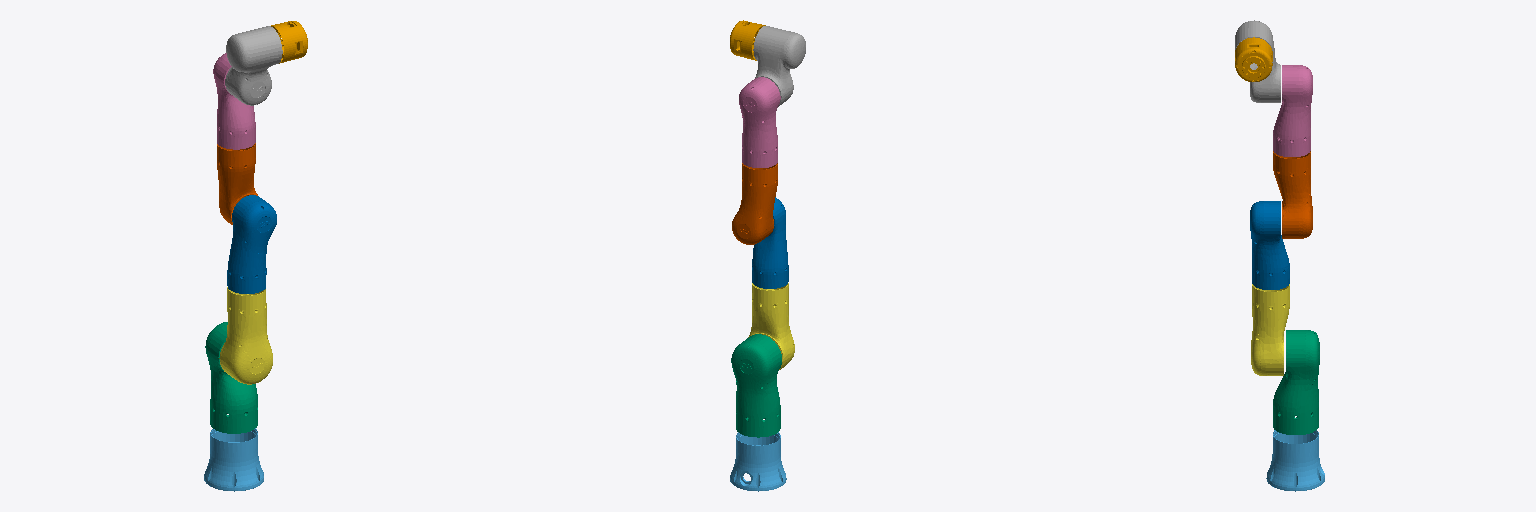
The robot description file, URDF, robot "flexivArm_pvt4":
<?xml version="1.0" ?>
<!-- ======================================================================= -->
<!-- |                           Flexiv 7DOFs Arm                          | -->
<!-- ======================================================================= -->
<robot name="flexivArm_pvt4">
  <!-- ============================ Link Configuration ===================== -->
  <link name="world"/>
  <!-- ============ base link =========== -->
  <link name="base">
    <inertial>
      <mass value="3.591137"/> 
      <origin rpy="0 0 0" xyz="-0.001234 0.001568 0.081104"/>
      <inertia ixx="0.018771" iyy="0.018894" izz="0.009005" ixy="0.000028" ixz="0.000242" iyz="-0.000318"/>
    </inertial>
    <visual>
      <origin rpy="0 0 0" xyz="0 0 0"/>
      <geometry>
        <mesh filename="graphics/link0_body.stl"/>
      </geometry>      
    </visual>  
    <collision>
       <origin xyz="0 0 0" rpy="0 0 0"/>
       <geometry>
         <mesh filename="graphics/link0_body.stl"/>
       </geometry>
    </collision>   
  </link>
  <!-- ============ link 1 ============= -->
  <link name="link1">
    <inertial>
      <mass value="3.560594"/> 
      <origin rpy="0 0 0" xyz="0.000163 0.005993 0.148985"/>
      <inertia ixx="0.026557" iyy="0.026137" izz="0.007362" ixy="-0.000034" ixz="0.000019"  iyz="0.001705" />
    </inertial>
    <visual>
      <origin rpy="0 0 0" xyz="0 0 0"/>
      <geometry>
        <mesh filename="graphics/link1_assemble.stl"/>
      </geometry>      
    </visual>    
    <collision>
       <origin xyz="0 0 0" rpy="0 0 0"/>
       <geometry>
         <mesh filename="graphics/link1_assemble.stl"/>
       </geometry>
    </collision>  
  </link>
  <!-- ============ link 2 ============= -->
  <link name="link2">
    <inertial>
      <mass value="2.613387"/> 
      <origin rpy="0 0 0" xyz="0.000094 0.036160 0.096506"/>
      <inertia ixx="0.021981" iyy="0.022815" izz="0.003434" ixy="-0.000005" ixz="0.000012"  iyz="-0.000198" />
    </inertial>
    <visual>
      <origin rpy="0 0 0" xyz="0 0 0"/>
      <geometry>
        <mesh filename="graphics/link2_assemble.stl"/>
      </geometry>      
    </visual>  
    <collision>
       <origin xyz="0 0 0" rpy="0 0 0"/>
       <geometry>
         <mesh filename="graphics/link2_assemble.stl"/>
       </geometry>
    </collision>   
  </link>
  <!-- ============ link 3 ============= -->
  <link name="link3">
    <inertial>
      <mass value="2.121307"/> 
      <origin rpy="0 0 0" xyz="-0.011331 -0.004816 0.132184"/>   
      <inertia ixx="0.012408" iyy="0.012231" izz="0.003144" ixy="0.000122" ixz="-0.001276"  iyz="-0.000841" />
    </inertial>
    <visual>
      <origin rpy="0 0 0" xyz="0 0 0"/>
      <geometry>
        <mesh filename="graphics/link3_assemble.stl"/>
      </geometry>      
    </visual>  
    <collision>
       <origin xyz="0 0 0" rpy="0 0 0"/>
       <geometry>
         <mesh filename="graphics/link3_assemble.stl"/>
       </geometry>
    </collision>      
  </link>
  <!-- ============ link 4 ============= -->
  <link name="link4">
    <inertial>
      <mass value="2.121307"/> 
      <origin rpy="0 0 0" xyz="0.013470 -0.028852 0.106413"/>
      <inertia ixx="0.015539" iyy="0.015983" izz="0.002456" ixy="0.000057" ixz="0.001317"  iyz="0.000634" />
    </inertial>
    <visual>
      <origin rpy="0 0 0" xyz="0 0 0"/>
      <geometry>
        <mesh filename="graphics/link4_assemble.stl"/>
      </geometry>      
    </visual>   
    <collision>
       <origin xyz="0 0 0" rpy="0 0 0"/>
       <geometry>
         <mesh filename="graphics/link4_assemble.stl"/>
       </geometry>
    </collision>  
  </link>
  <!-- ============ link 5 ============= -->
  <link name="link5">
    <inertial>
      <mass value="2.099842"/> 
      <origin rpy="0 0 0" xyz="0.000161 0.004881 0.131728"/>
      <inertia ixx="0.012359" iyy="0.011973" izz="0.002944" ixy="-0.000022" ixz="0.000023"  iyz="0.000843" />
    </inertial>
    <visual>
      <origin rpy="0 0 0" xyz="0 0 0"/>
      <geometry>
        <mesh filename="graphics/link5_assemble.stl"/>
      </geometry>      
    </visual>    
    <collision>
       <origin xyz="0 0 0" rpy="0 0 0"/>
       <geometry>
         <mesh filename="graphics/link5_assemble.stl"/>
       </geometry>
    </collision>
  </link>
  <!-- ============ link 6 ============= -->
  <link name="link6">
    <inertial>
      <mass value="1.951133"/> 
      <origin rpy="0 0 0" xyz="-0.009368 0.056122 0.070695"/>
      <inertia ixx="0.007508" iyy="0.007739" izz="0.003209" ixy="-0.000280" ixz="-0.000731"  iyz="0.001606" />
    </inertial>
    <visual>
      <origin rpy="0 0 0" xyz="0 0 0"/>
      <geometry>
        <mesh filename="graphics/link6_assemble.stl"/>
      </geometry>      
    </visual>
    <collision>
       <origin xyz="0 0 0" rpy="0 0 0"/>
       <geometry>
         <mesh filename="graphics/link6_assemble.stl"/>
       </geometry>
    </collision>    
  </link>

  <!-- ============ link 7 ============= -->
  <link name="link7">
    <inertial>
      <mass value="0.787207"/> 
      <origin rpy="0 0 0" xyz="-0.027869 -0.000721 -0.000521"/>
      <inertia ixx="0.000998" iyy="0.001075" izz="0.001024" ixy="0.000006" ixz="0.000003"  iyz="0.000006" />
    </inertial>
    <visual>
      <origin rpy="0 0 0" xyz="0 0 0"/>
      <geometry>
        <mesh filename="graphics/link7_assemble.stl"/>
      </geometry>      
    </visual> 
    <collision>
       <origin xyz="0 0 0" rpy="0 0 0"/>
       <geometry>
         <mesh filename="graphics/link7_assemble.stl"/>
       </geometry>
    </collision>    
  </link>
  
  <!-- ========================= Joint Configuration ======================= -->
  <!-- ============ joint 0 =============== -->
  <joint name="joint0" type="fixed">
    <origin rpy="0 0 -3.1415927" xyz="0 0 0.0"/>
    <parent link="world"/>
    <child link="base"/>
  </joint>
  
  <!-- ============ joint 1 =============== -->
  <joint name="joint1" type="revolute">
    <origin rpy="0 0 0" xyz="0.0 0.0 0.155"/>
    <axis xyz="0 0 1"/>
    <limit effort="123" lower="-2.87979" upper="2.87979" velocity="2.61799"/>
    <dynamics damping="0.1"/>
    <parent link="base"/>
    <child link="link1"/>
  </joint>
 
  <!-- ============ joint 2 =============== -->
  <joint name="joint2" type="revolute">
    <origin rpy="0 0 0" xyz="0.0 0.03 0.210"/>
    <axis xyz="0 1 0"/>
    <limit effort="123" lower="-2.16421" upper="2.16421" velocity="2.61799"/>
    <dynamics damping="0.1"/>
    <parent link="link1"/>
    <child link="link2"/>
  </joint>

  <!-- ============ joint 3 =============== -->
  <joint name="joint3" type="revolute">
    <origin rpy="0 0 0" xyz="0.0 0.035  0.205"/>
    <axis xyz="0 0 1"/>
    <limit effort="64" lower="-3.05433" upper="3.05433" velocity="2.61799"/>
    <dynamics damping="0.1"/>
    <parent link="link2"/>
    <child link="link3"/>
  </joint>

  <!-- ============ joint 4 =============== -->
  <joint name="joint4" type="revolute">
    <origin rpy="0 0 0" xyz="-0.02 -0.03 0.19"/>
    <axis xyz="0 1 0"/>
    <limit effort="64" lower="-2.79253" upper="1.95477" velocity="2.61799"/>
    <dynamics damping="0.1"/>
    <parent link="link3"/>
    <child link="link4"/>
  </joint>

  <!-- ============ joint 5 =============== -->
  <joint name="joint5" type="revolute">
    <origin rpy="0 0 0" xyz="0.02 -0.025 0.195"/>
    <axis xyz="0 0 1"/>
    <limit effort="39" lower="-3.05433" upper="3.05433" velocity="5.23599"/>
    <dynamics damping="0.1"/>
    <parent link="link4"/>
    <child link="link5"/>
  </joint>

  <!-- ============ joint 6 =============== -->
  <joint name="joint6" type="revolute">
    <origin rpy="0 0 0" xyz="0.0 0.03 0.19"/>
    <axis xyz="0 1 0"/>
    <limit effort="39" lower="-1.48353" upper="4.62512" velocity="5.23599"/>
    <dynamics damping="0.1"/>
    <parent link="link5"/>
    <child link="link6"/>
  </joint>

  <!-- ============ joint 7 =============== -->
  <joint name="joint7" type="revolute">
    <origin rpy="0 -1.5707963 0" xyz="-0.055 0.070 0.11"/>
    <axis xyz="0 0 1"/>
    <limit effort="39" lower="-3.05433" upper="3.05433" velocity="5.23599"/>
    <dynamics damping="0.1"/>
    <parent link="link6"/>
    <child link="link7"/>
  </joint> 
</robot>

--- Facts derived from the render (not from the file) ---
3 views of the same robot in one strip: view 1: azimuth 30°, elevation 25°; view 2: azimuth 150°, elevation 25°; view 3: azimuth 270°, elevation 25° (orthographic).
Robot: flexivArm_pvt4 — 9 links, 8 joints (7 revolute, 1 fixed); root link world; default pose: every joint at zero.
Links seen in each view (by area): view 1: link2, link3, link6, link1, base, link5, link4, link7; view 2: link1, link5, link4, base, link6, link2, link3, link7; view 3: link1, link5, link2, link3, base, link4, link6, link7.
Boxes of the visible links, <box> form: link2: <box>219,287,272,384</box>; link3: <box>227,195,276,293</box>; link6: <box>225,26,282,105</box>; link1: <box>205,322,257,433</box>; base: <box>204,428,263,491</box>; link5: <box>213,53,255,149</box>; link4: <box>217,143,257,224</box>; link7: <box>271,21,307,63</box>; link1: <box>731,334,781,437</box>; link5: <box>739,77,780,167</box>; link4: <box>732,163,777,244</box>; base: <box>730,432,786,491</box>; link6: <box>753,26,805,106</box>; link2: <box>748,283,794,369</box>; link3: <box>752,197,788,288</box>; link7: <box>730,20,765,60</box>; link1: <box>1273,330,1319,434</box>; link5: <box>1273,65,1312,156</box>; link2: <box>1251,284,1289,375</box>; link3: <box>1250,201,1289,289</box>; base: <box>1266,430,1324,491</box>; link4: <box>1273,151,1312,238</box>; link6: <box>1235,20,1280,102</box>; link7: <box>1235,37,1272,81</box>.
Size in the robot's own frame: 0.213 by 0.237 by 1.3 metres.
8 mesh visuals loaded from 8 distinct referenced files (8 binary STL).